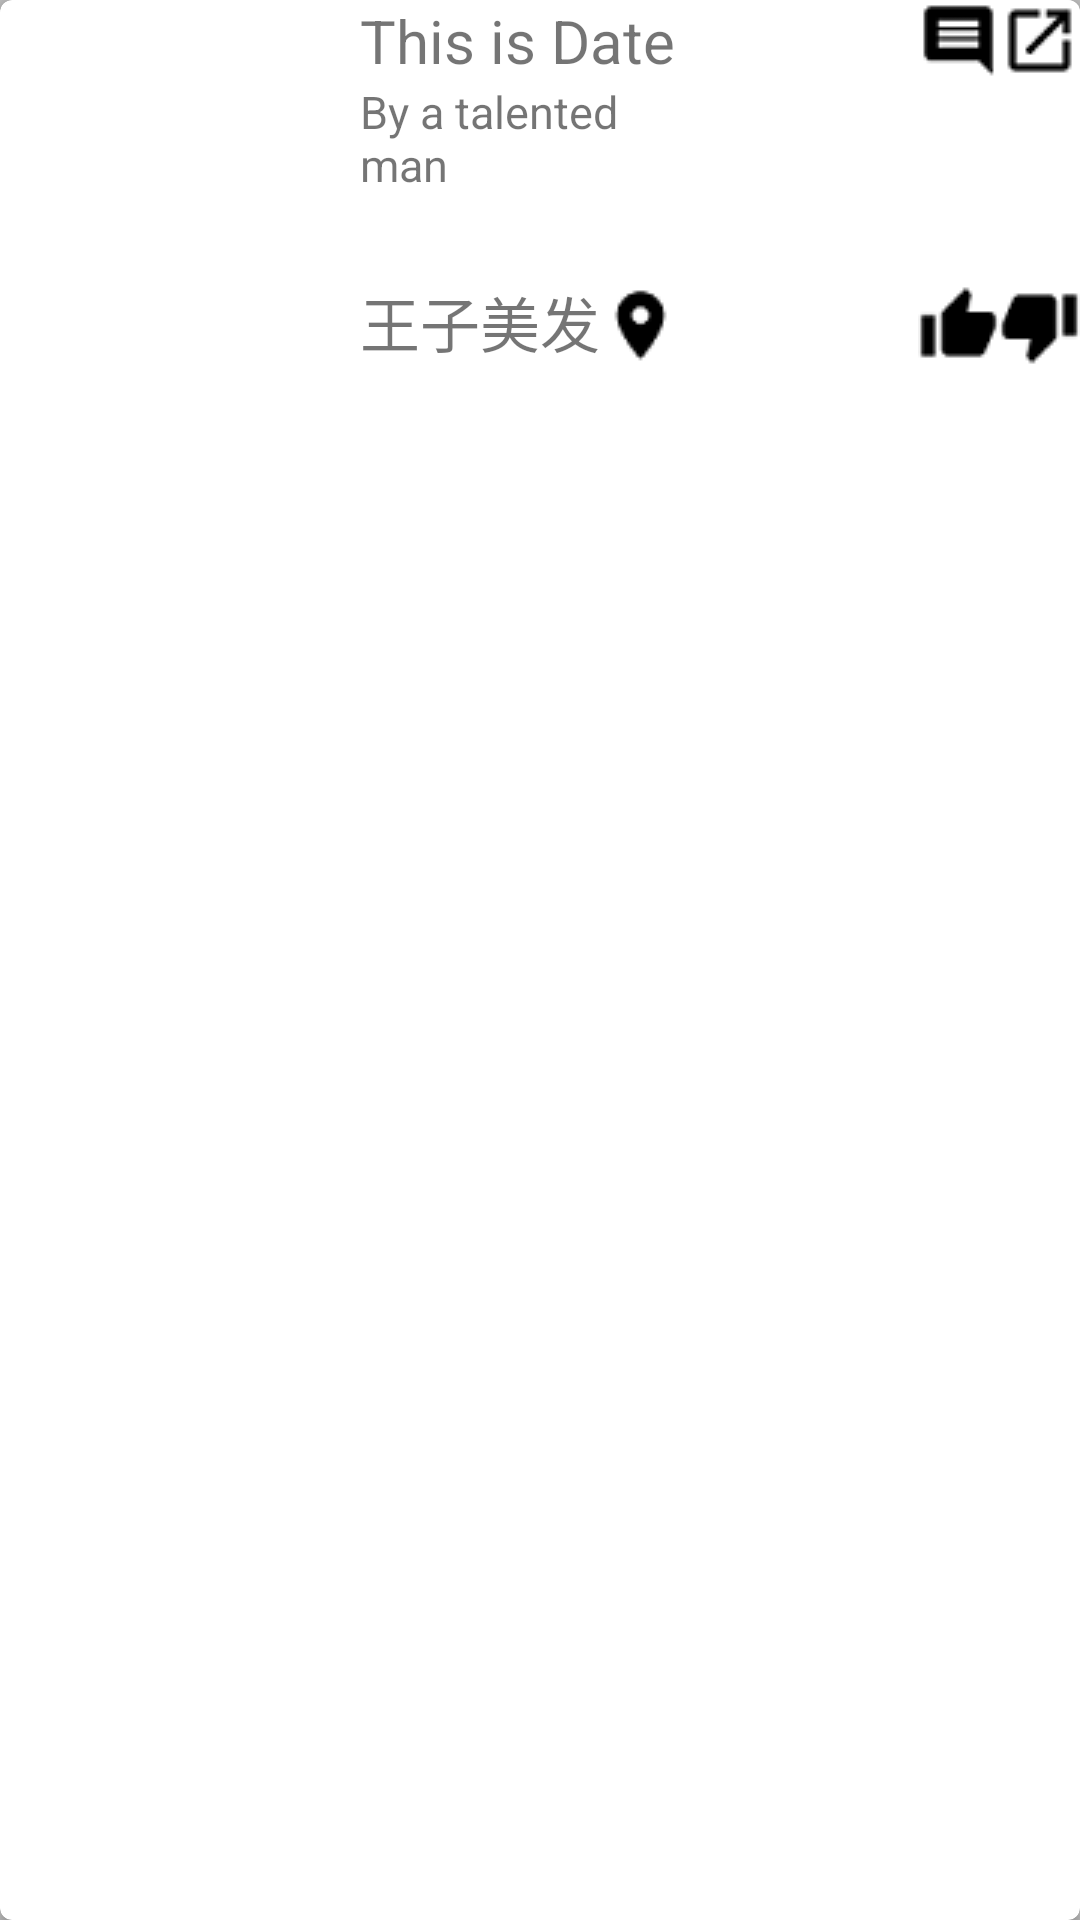

Icon bounding boxes for this 1080px×1920px phone screenshot, format {"x1": x1, "y1": y1, "x2": x2, "y2": y2}:
comment: {"x1": 923, "y1": 5, "x2": 994, "y2": 76}
launch: {"x1": 1007, "y1": 0, "x2": 1080, "y2": 73}
room: {"x1": 614, "y1": 290, "x2": 667, "y2": 361}
thumb down: {"x1": 1001, "y1": 293, "x2": 1078, "y2": 364}
thumb up: {"x1": 920, "y1": 287, "x2": 997, "y2": 358}
